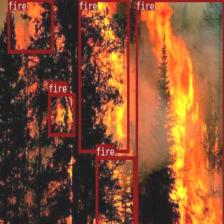fire: (135, 0, 224, 224), (78, 0, 128, 152), (95, 156, 135, 224), (7, 0, 53, 52), (47, 92, 74, 136)
